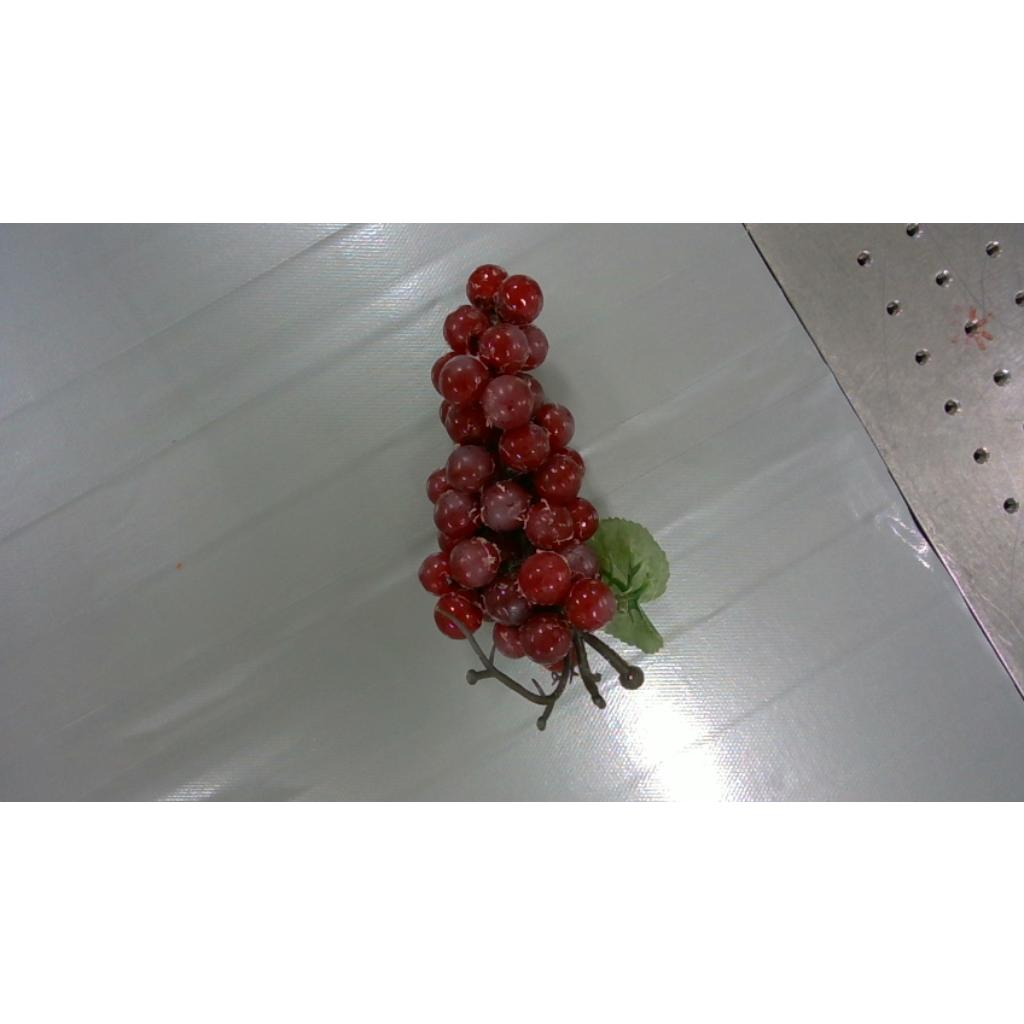grape: (418, 264, 670, 729)
